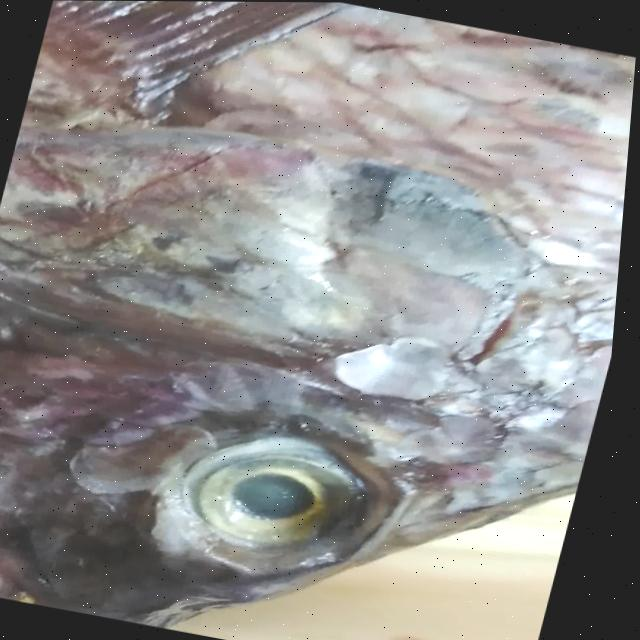Non-Fresh: (0, 0, 640, 469), (167, 403, 413, 585)
